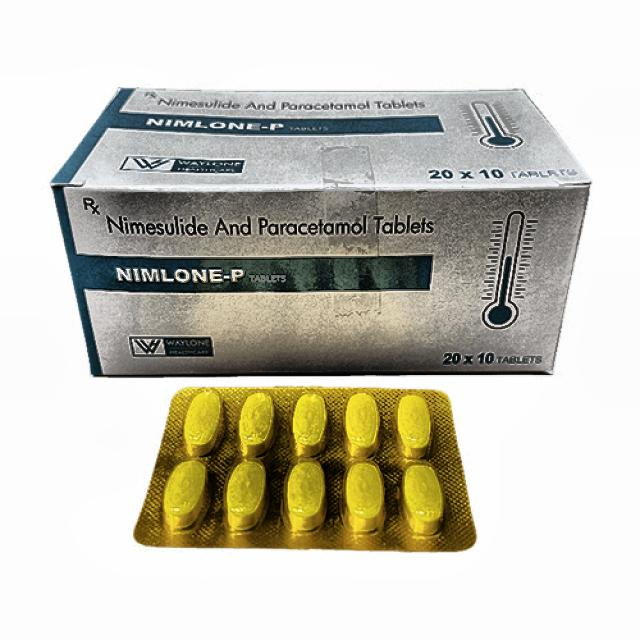Paracetamol: (84, 197, 468, 254)
